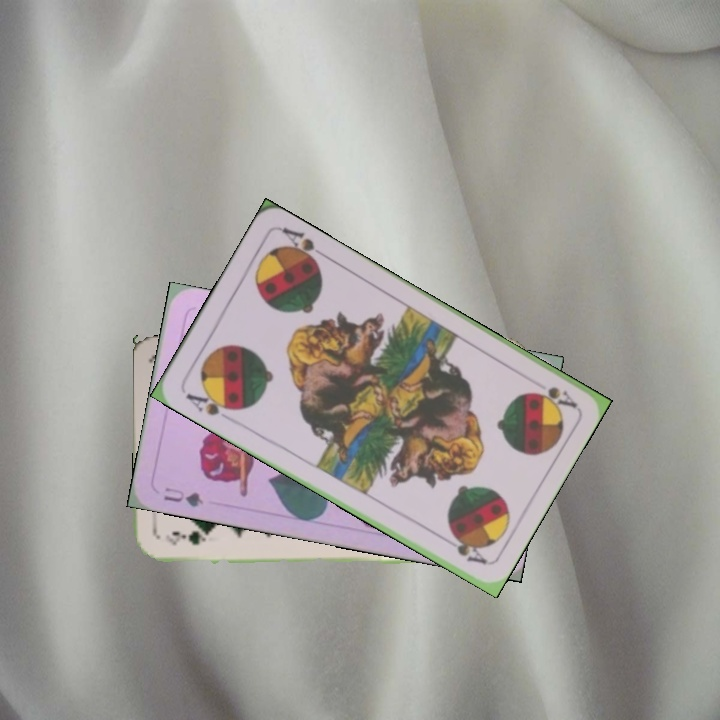G9: (162, 529, 211, 548)
GU: (160, 483, 207, 510)
SA: (181, 386, 239, 419), (529, 382, 579, 411)
